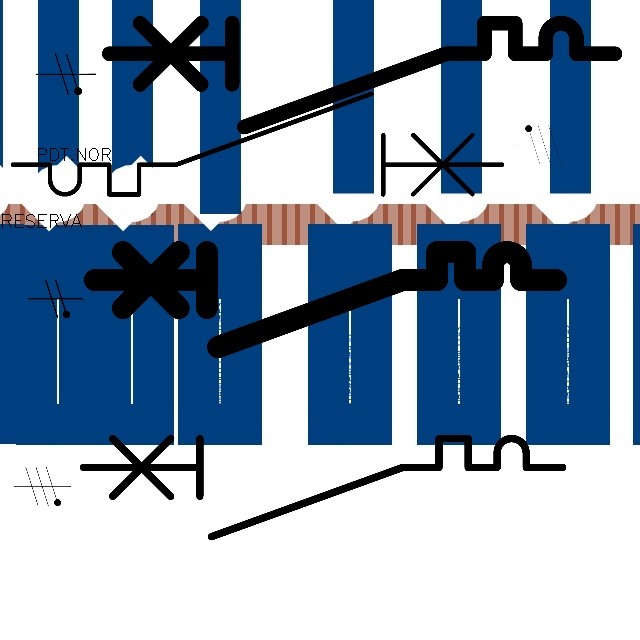interruptor_termomagnetico: (96, 10, 628, 140), (0, 81, 515, 207), (71, 426, 575, 549), (82, 240, 567, 358)
